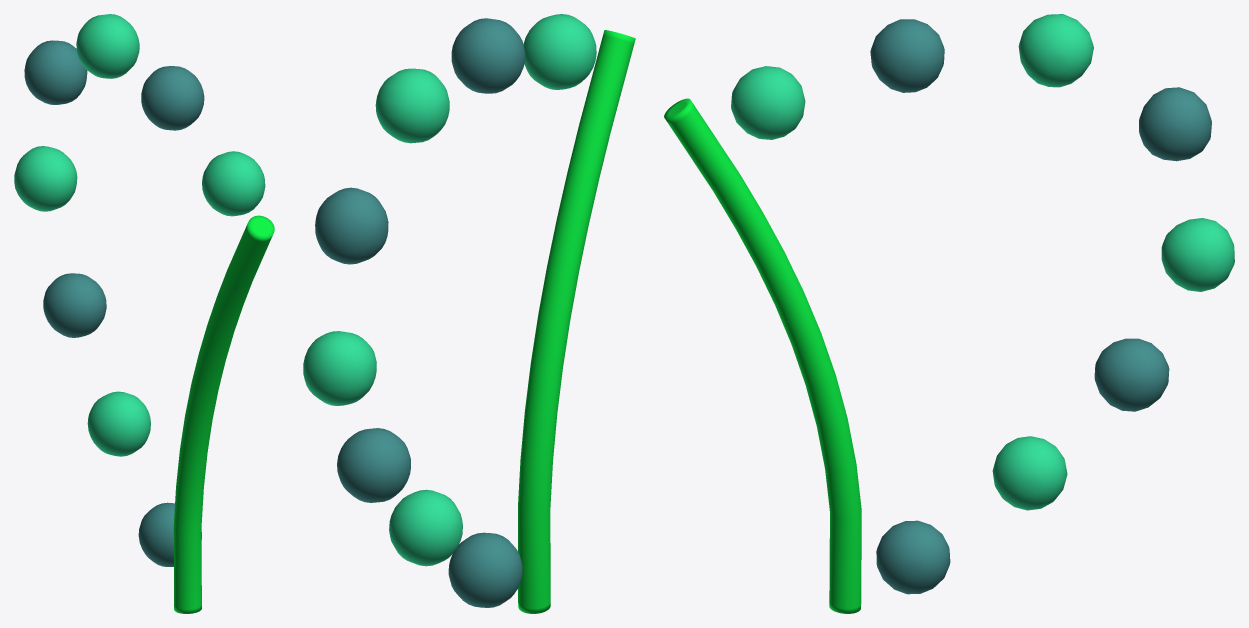
Rendered from D comp.glb.
3 views of the same model, side by side, from view 1: azimuth 30°, elevation 25°; view 2: azimuth 150°, elevation 25°; view 3: azimuth 270°, elevation 25° (orthographic). The views are drawn at different scales.
Parts seen in each view (by area): view 1: D; view 2: D; view 3: D.
Part boxes in pixels (x1,y1,x2,y2): D: (14, 14, 274, 613); D: (303, 14, 635, 613); D: (664, 14, 1234, 613).
Bounding box in the file's own units: 0.1071 × 0.9865 × 0.8539.
Materials: 1 (1 with a texture image).
